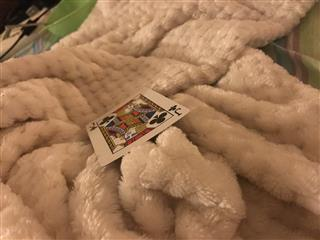JackOfClubs: (85, 87, 190, 167)
